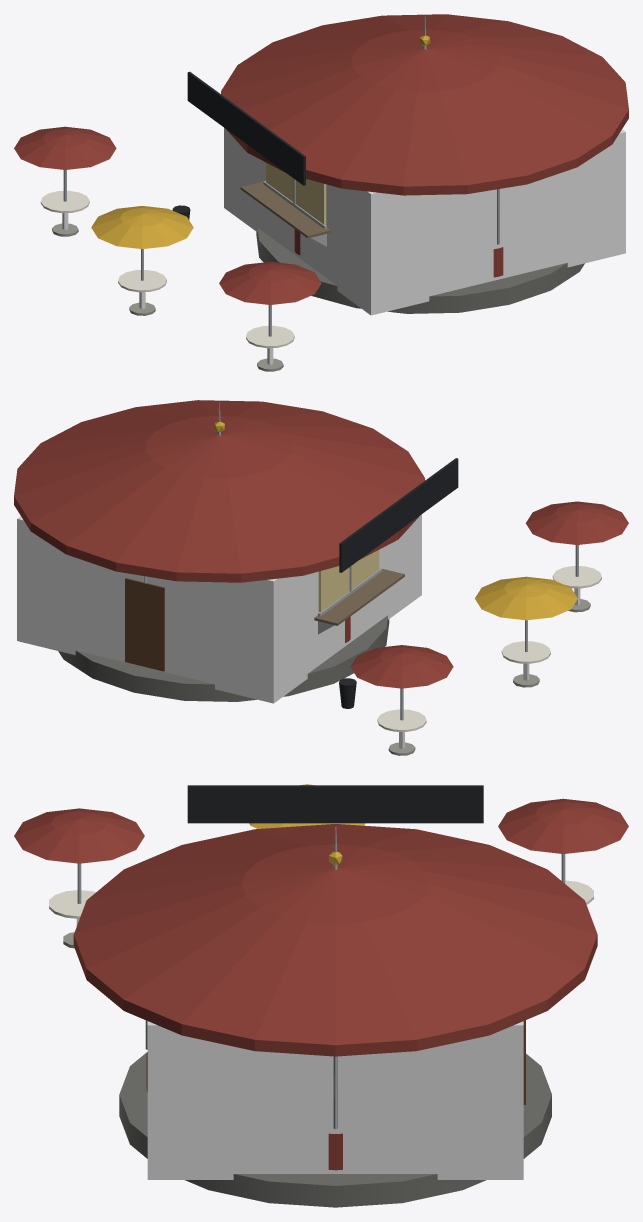
The model's file is diner-kiosk.glb.
3 renders of one model, top to bottom at view 1: azimuth 30°, elevation 25°; view 2: azimuth 150°, elevation 25°; view 3: azimuth 270°, elevation 25°, orthographic. The views are drawn at different scales.
Visible parts, largest first — view 1: 02_paint0_noshadow, solid.003, 00_#6e6e6a, 09_#2a2c30_noshadow_r320, 06_#c9a13a, 01_#e6e2d6, 07_#d8c890_noshadow, 08_#7a6a56, 04_#a8acb0_r320, 05_#9a9a92; view 2: 02_paint0_noshadow, solid.003, 00_#6e6e6a, 09_#2a2c30_noshadow_r320, 06_#c9a13a, 10_#6a4a34_r320, 01_#e6e2d6, 07_#d8c890_noshadow, 08_#7a6a56, 04_#a8acb0_r320, 05_#9a9a92; view 3: 02_paint0_noshadow, solid.003, 09_#2a2c30_noshadow_r320, 00_#6e6e6a, 01_#e6e2d6, 04_#a8acb0_r320.
Part boxes in pixels (left/top/right/bottom): 02_paint0_noshadow: left=14, top=14, right=628, bottom=304; solid.003: left=224, top=128, right=625, bottom=315; 00_#6e6e6a: left=256, top=228, right=584, bottom=313; 09_#2a2c30_noshadow_r320: left=172, top=71, right=305, bottom=219; 06_#c9a13a: left=91, top=35, right=430, bottom=249; 01_#e6e2d6: left=40, top=190, right=294, bottom=348; 07_#d8c890_noshadow: left=266, top=162, right=326, bottom=224; 08_#7a6a56: left=240, top=181, right=330, bottom=238; 04_#a8acb0_r320: left=63, top=16, right=499, bottom=336; 05_#9a9a92: left=52, top=223, right=283, bottom=371; 02_paint0_noshadow: left=14, top=400, right=628, bottom=688; solid.003: left=17, top=514, right=421, bottom=703; 00_#6e6e6a: left=58, top=615, right=389, bottom=701; 09_#2a2c30_noshadow_r320: left=339, top=458, right=458, bottom=708; 06_#c9a13a: left=214, top=422, right=577, bottom=620; 10_#6a4a34_r320: left=125, top=578, right=164, bottom=671; 01_#e6e2d6: left=377, top=566, right=601, bottom=731; 07_#d8c890_noshadow: left=318, top=550, right=379, bottom=612; 08_#7a6a56: left=314, top=569, right=404, bottom=625; 04_#a8acb0_r320: left=143, top=402, right=578, bottom=720; 05_#9a9a92: left=388, top=599, right=590, bottom=755; 02_paint0_noshadow: left=14, top=798, right=628, bottom=1170; solid.003: left=147, top=1021, right=523, bottom=1179; 09_#2a2c30_noshadow_r320: left=187, top=785, right=483, bottom=823; 00_#6e6e6a: left=119, top=1052, right=551, bottom=1207; 01_#e6e2d6: left=49, top=880, right=593, bottom=918; 04_#a8acb0_r320: left=77, top=827, right=565, bottom=1129.
Bounding box in the file's own units: 13.35 × 5.6 × 10.8.
